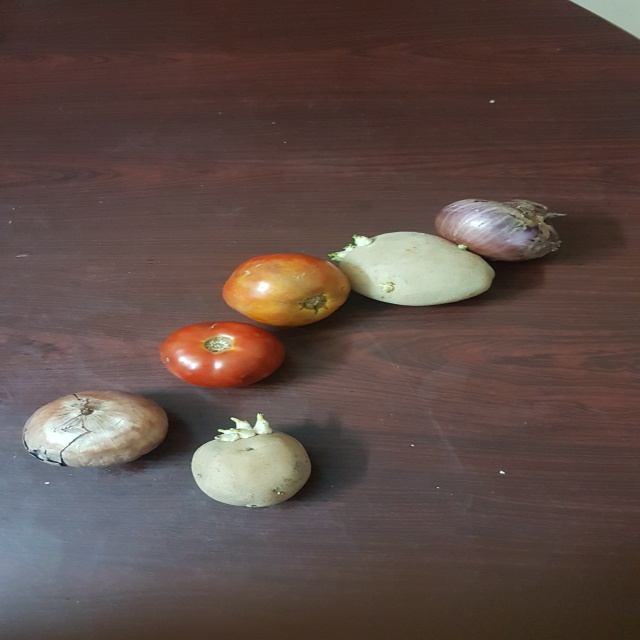onion: (23, 382, 173, 469), (436, 177, 578, 264)
potato: (330, 219, 500, 319), (187, 414, 326, 513)
tomato: (152, 316, 294, 392), (223, 251, 356, 329)
